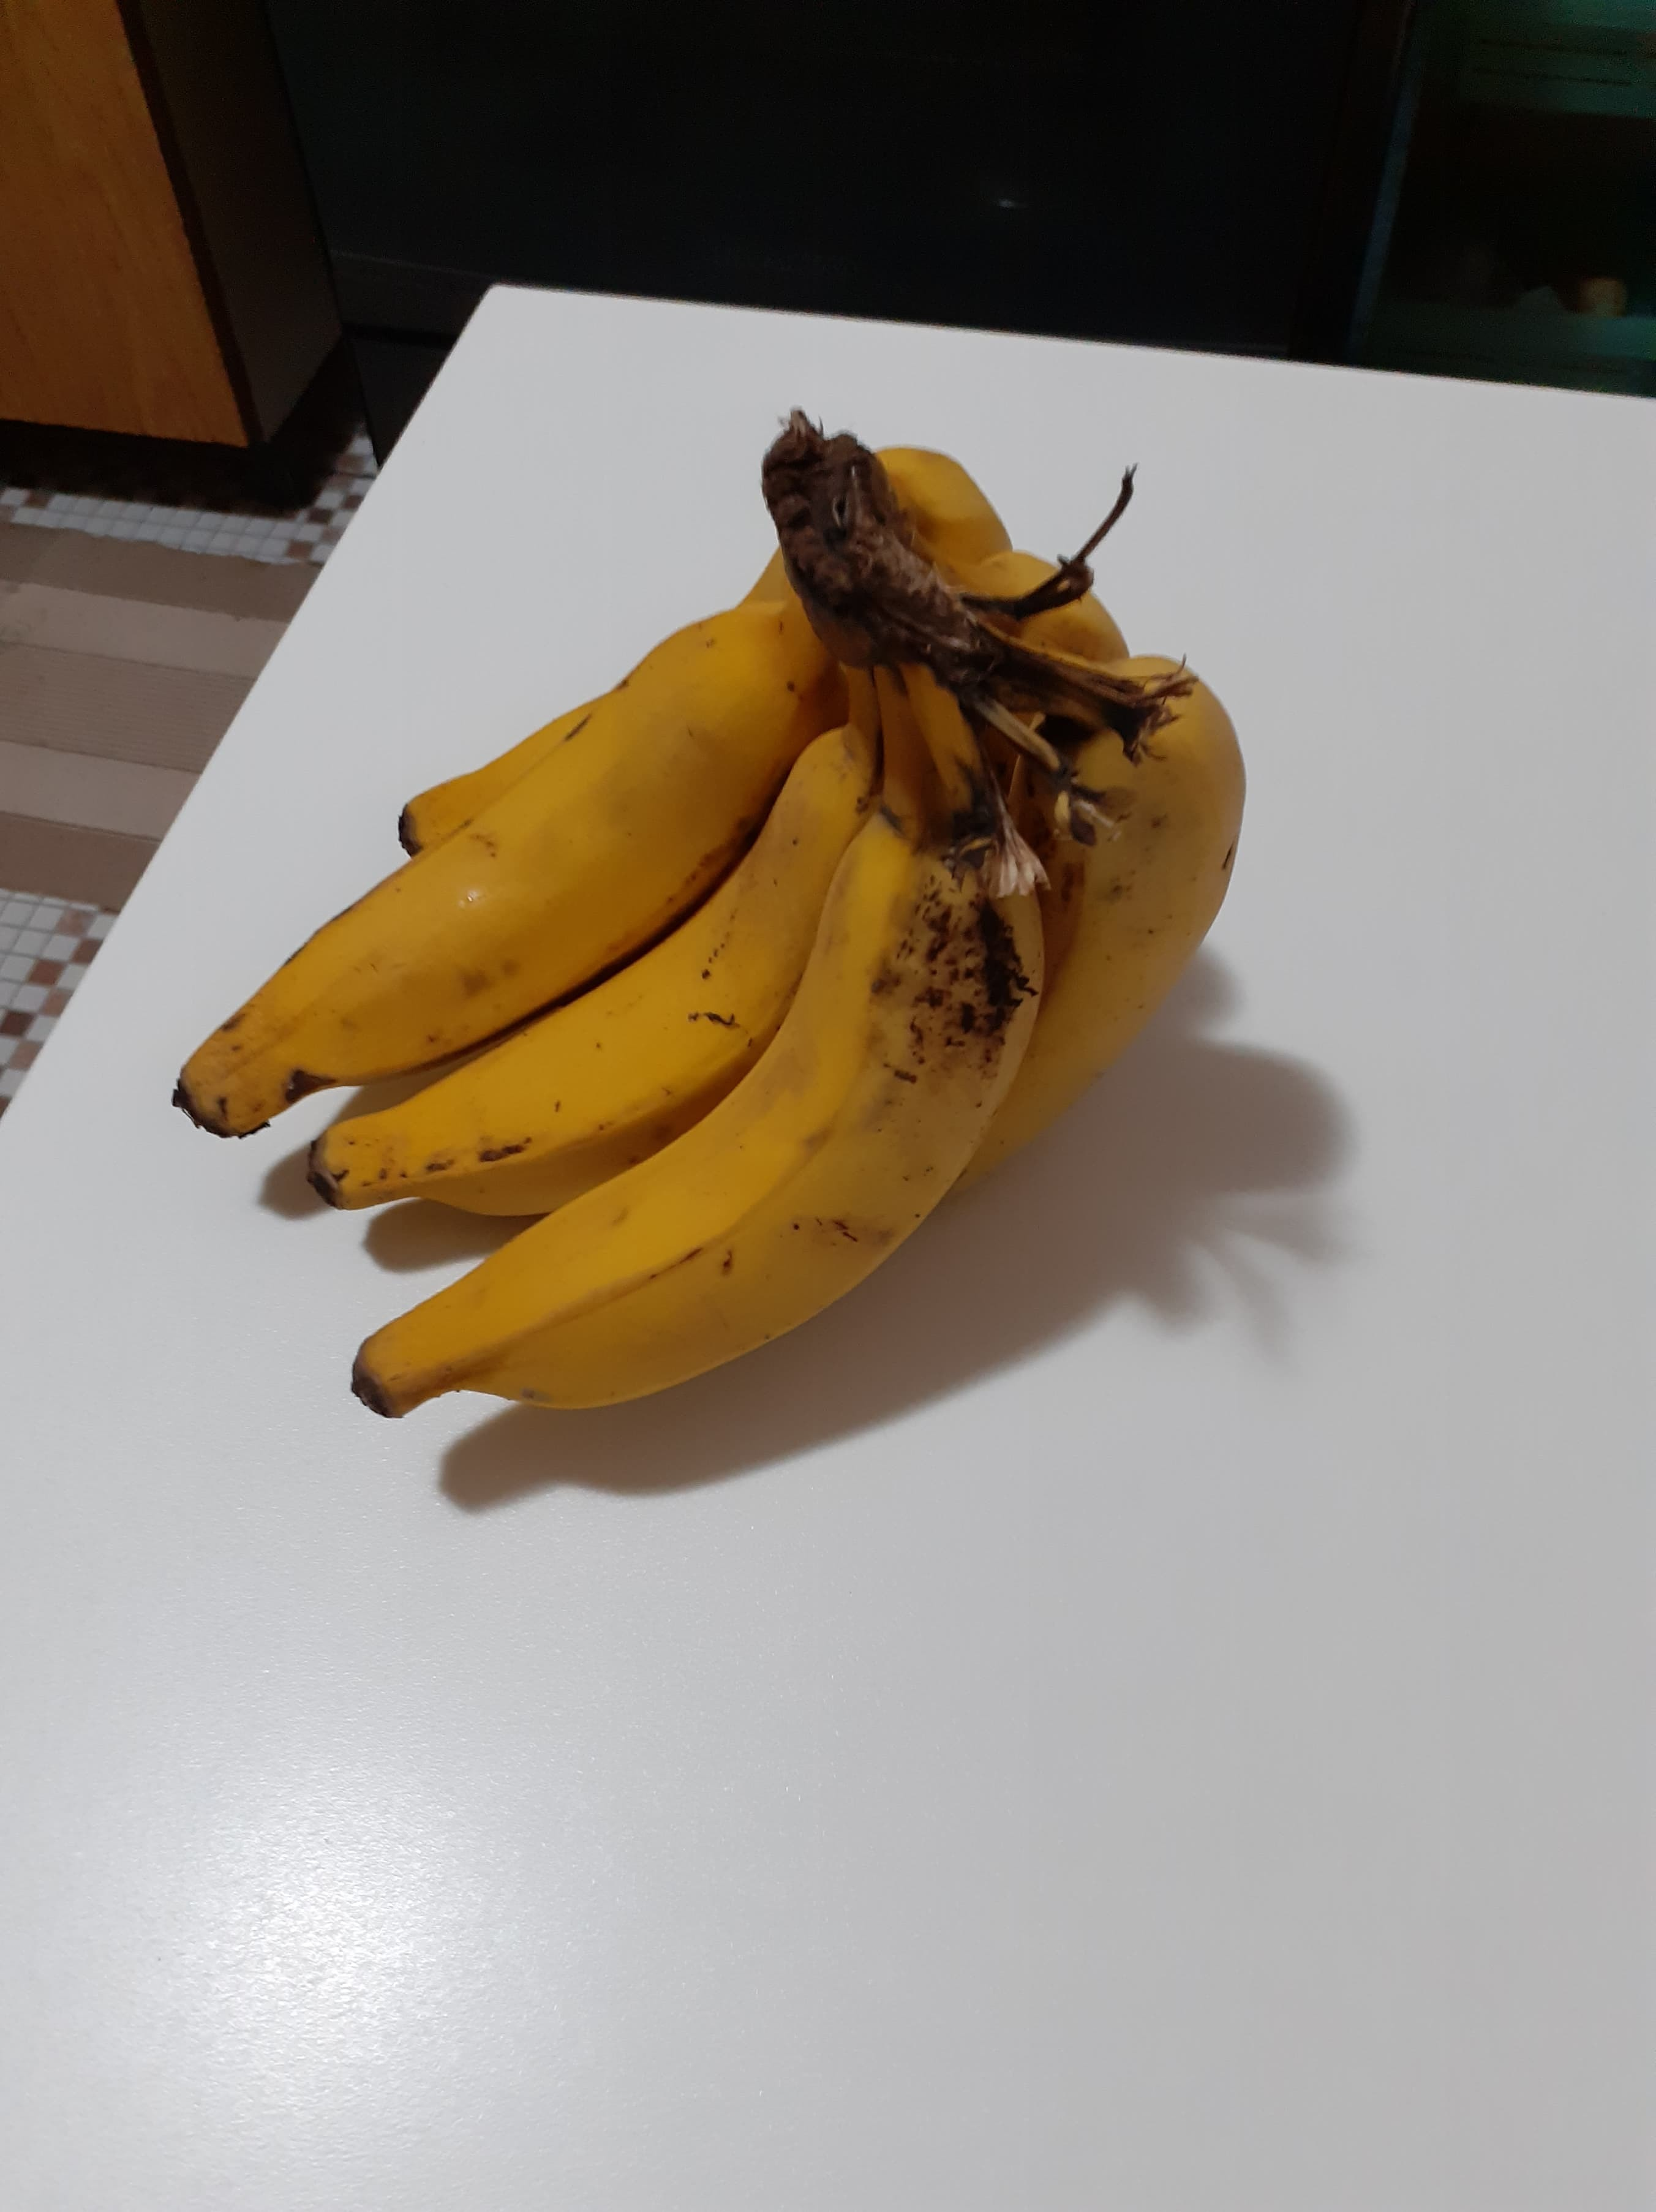banana: (327, 577, 1230, 1402)
